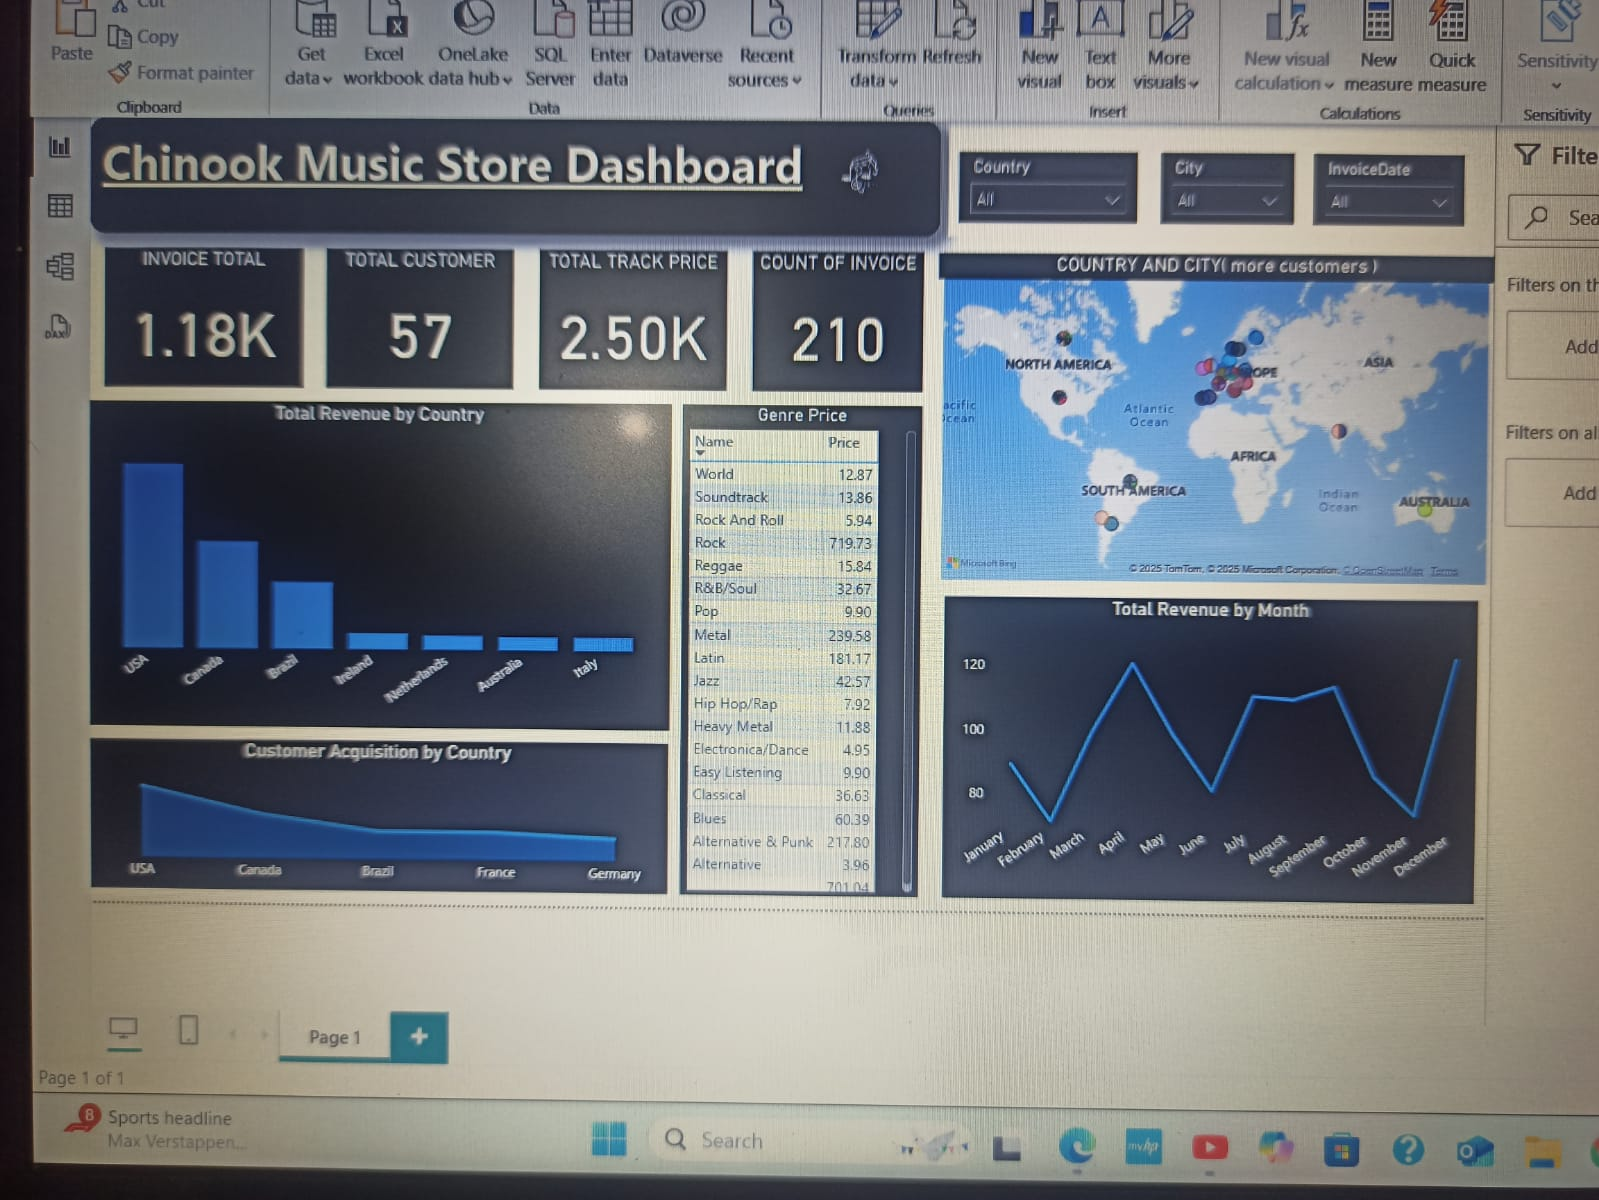

The dashboard page shown, as its layout file describes it:
{"tool":"powerbi","page":{"name":"Page 1","canvas":[1280,720],"ordinal":0},"visuals":[{"type":"textbox","box":[0,0,776.7,105.7],"z":0},{"type":"image","box":[649.1,0,113.9,91.9],"z":1000},{"type":"shape","box":[785.1,0,484.2,105.2],"z":2000},{"type":"slicer","fields":{"Values":["Customer.Country"]},"box":[794.8,26.9,161.4,64.8],"z":3000},{"type":"slicer","fields":{"Values":["Customer.City"]},"box":[977,26.9,121.1,64.8],"z":4000},{"type":"slicer","fields":{"Values":["Invoice.InvoiceDate"]},"box":[1115.2,26.9,137,64.8],"z":5000},{"type":"card","title":"INVOICE TOTAL","fields":{"Values":["Invoice.Total"]},"box":[13.5,119.8,183.4,127.2],"z":6000},{"type":"card","title":"TOTAL CUSTOMER","fields":{"Values":["Customer.FirstName"]},"box":[217.7,119.8,171.2,127.2],"z":7000},{"type":"card","title":"TOTAL TRACK PRICE","fields":{"Values":["Track.UnitPrice"]},"box":[413.3,119.8,171.2,127.2],"z":8000},{"type":"card","title":"COUNT OF INVOICE","fields":{"Values":["Invoice.InvoiceId"]},"box":[607.7,119.8,155.3,127.2],"z":9000},{"type":"map","title":"COUNTRY AND CITY( more customers )","fields":{"Category":["Customer.Country"],"Series":["Customer.City"]},"box":[776.5,119.8,503.8,302],"z":10000},{"type":"lineChart","title":" Total Revenue by Month","fields":{"Y":["Invoice.Total"],"Category":["Invoice.InvoiceDate.Variation.Date Hierarchy.Month"]},"box":[785.1,431.7,484.2,276.4],"z":11000},{"type":"clusteredColumnChart","title":"Total Revenue by Country","fields":{"Y":["Invoice.Total"],"Category":["Invoice.BillingCountry"]},"box":[0,259.2,534.4,298.4],"z":12000},{"type":"stackedAreaChart","title":"Customer Acquisition by Country","fields":{"Category":["Customer.Country"],"Y":["Customer.CustomerId"]},"box":[0,569.5,533.8,138.6],"z":13000},{"type":"tableEx","title":"Genre Price","fields":{"Values":["Genre.Name","InvoiceLine.UnitPrice"]},"box":[544.8,259.3,218.2,448.7],"z":14000}]}

Visuals, with their boxes on the page's 1280x720 design canvas (x1, y1, x2, y2). These are canvas units, not pixel positions in the 1599x1200 screenshot, which may show the page scaled, cropped or inside an application window:
textbox: (x1=0, y1=0, x2=777, y2=106)
image: (x1=649, y1=0, x2=763, y2=92)
shape: (x1=785, y1=0, x2=1269, y2=105)
slicer - Customer.Country: (x1=795, y1=27, x2=956, y2=92)
slicer - Customer.City: (x1=977, y1=27, x2=1098, y2=92)
slicer - Invoice.InvoiceDate: (x1=1115, y1=27, x2=1252, y2=92)
"INVOICE TOTAL" card: (x1=14, y1=120, x2=197, y2=247)
"TOTAL CUSTOMER" card: (x1=218, y1=120, x2=389, y2=247)
"TOTAL TRACK PRICE" card: (x1=413, y1=120, x2=584, y2=247)
"COUNT OF INVOICE" card: (x1=608, y1=120, x2=763, y2=247)
"COUNTRY AND CITY( more customers )" map: (x1=776, y1=120, x2=1280, y2=422)
" Total Revenue by Month" lineChart: (x1=785, y1=432, x2=1269, y2=708)
"Total Revenue by Country" clusteredColumnChart: (x1=0, y1=259, x2=534, y2=558)
"Customer Acquisition by Country" stackedAreaChart: (x1=0, y1=570, x2=534, y2=708)
"Genre Price" tableEx: (x1=545, y1=259, x2=763, y2=708)
